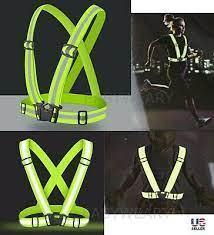Vest: (133, 144, 188, 201)
